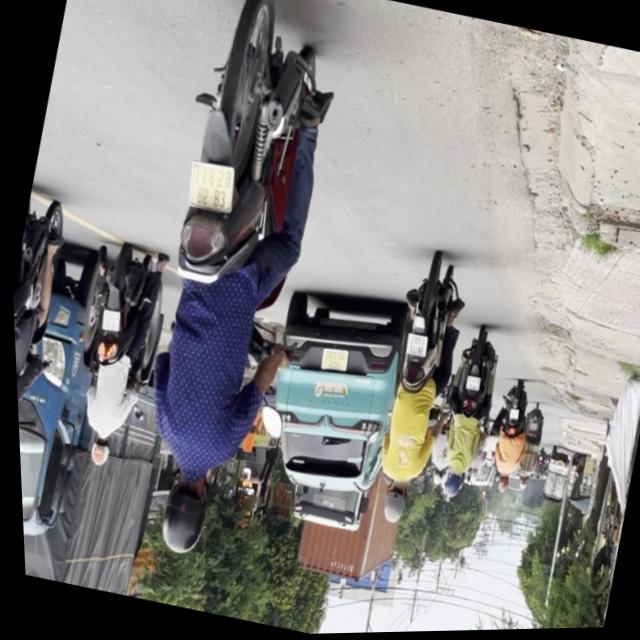helmet: (145, 467, 211, 560), (370, 482, 404, 528), (80, 434, 106, 469)
licenseplate: (83, 0, 374, 575), (345, 247, 477, 533), (58, 240, 173, 475), (6, 182, 81, 478)
nohelmet: (181, 159, 238, 215), (399, 333, 424, 359), (95, 308, 118, 332)
